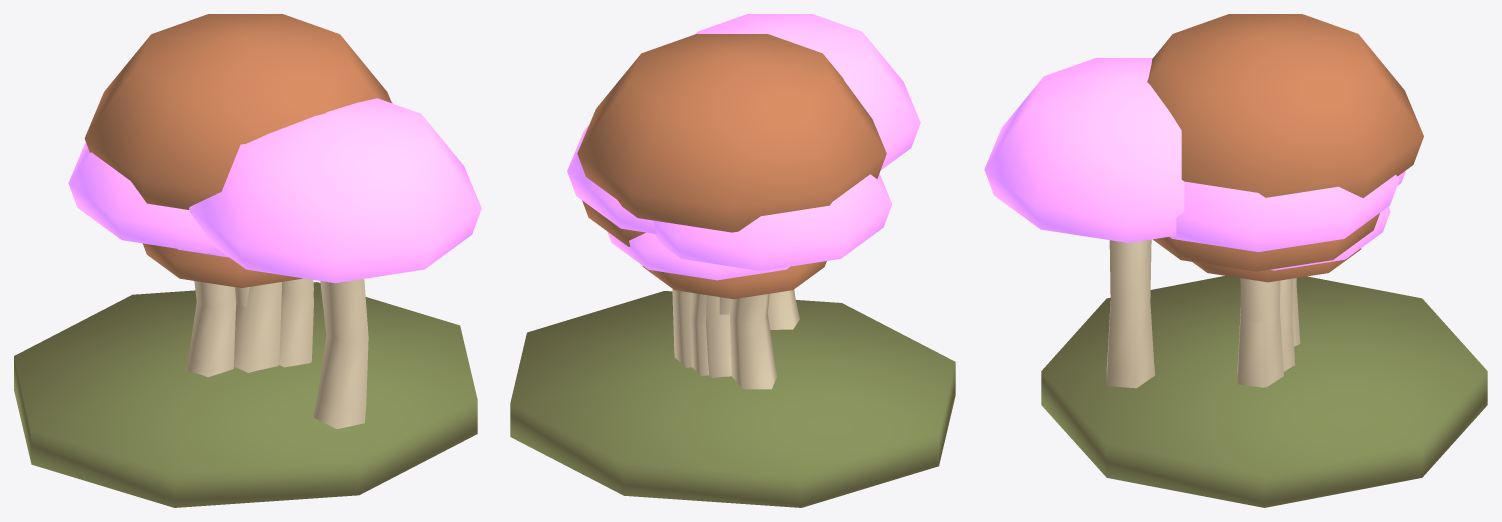
The model's file is prop_tc_nam_phat_sang_2.14f1bf2758.glb.
The picture shows the model from 3 angles, left to right: view 1: azimuth 30°, elevation 25°; view 2: azimuth 150°, elevation 25°; view 3: azimuth 270°, elevation 25°; orthographic projection. The views are drawn at different scales.
Visible parts, largest first — view 1: prop_tc_nam_phat_sang_2; view 2: prop_tc_nam_phat_sang_2; view 3: prop_tc_nam_phat_sang_2.
Part boxes in pixels (left/top/right/bottom): prop_tc_nam_phat_sang_2: left=14, top=14, right=481, bottom=507; prop_tc_nam_phat_sang_2: left=510, top=14, right=955, bottom=507; prop_tc_nam_phat_sang_2: left=984, top=14, right=1487, bottom=507.
Size of what is drawn, in the model's own units: 1.04 by 0.907 by 1.07.
